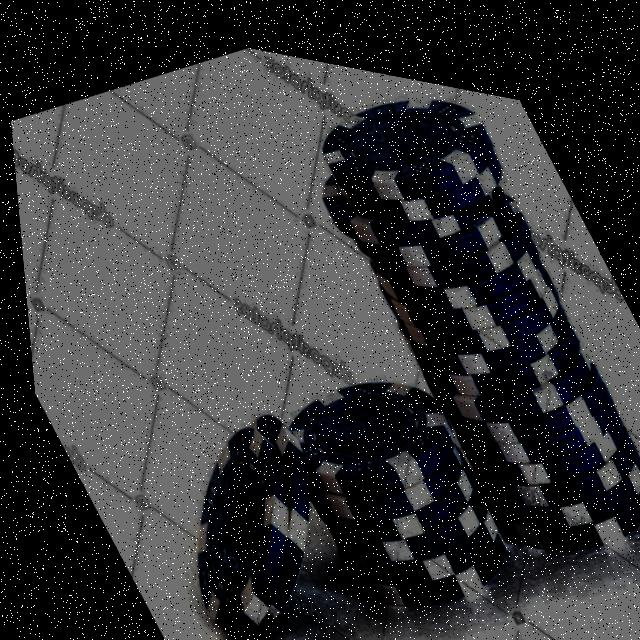Chip: (275, 42, 640, 586), (242, 312, 536, 640), (94, 344, 372, 640)
